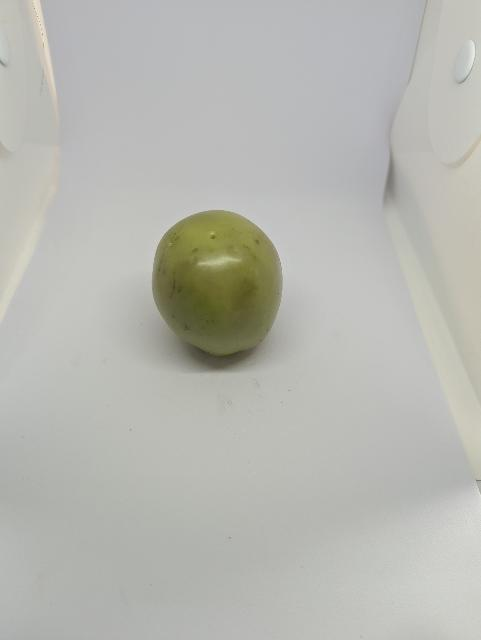green: (140, 202, 293, 369)
